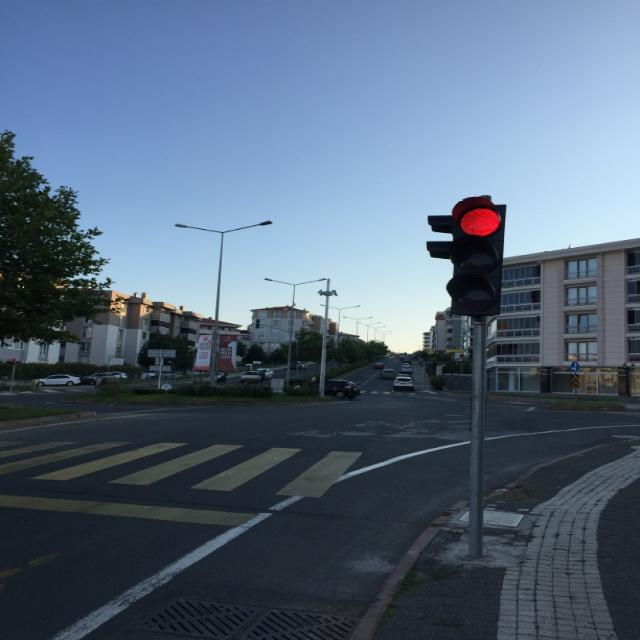kirmizi: (450, 196, 508, 319)
